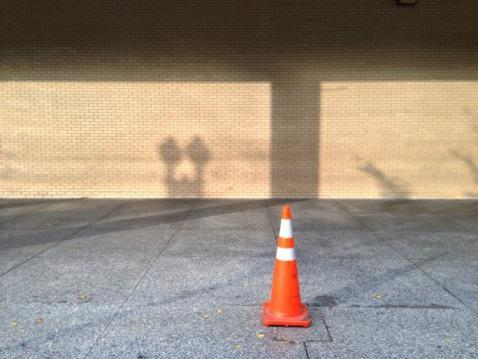Cone: (262, 203, 311, 328)
